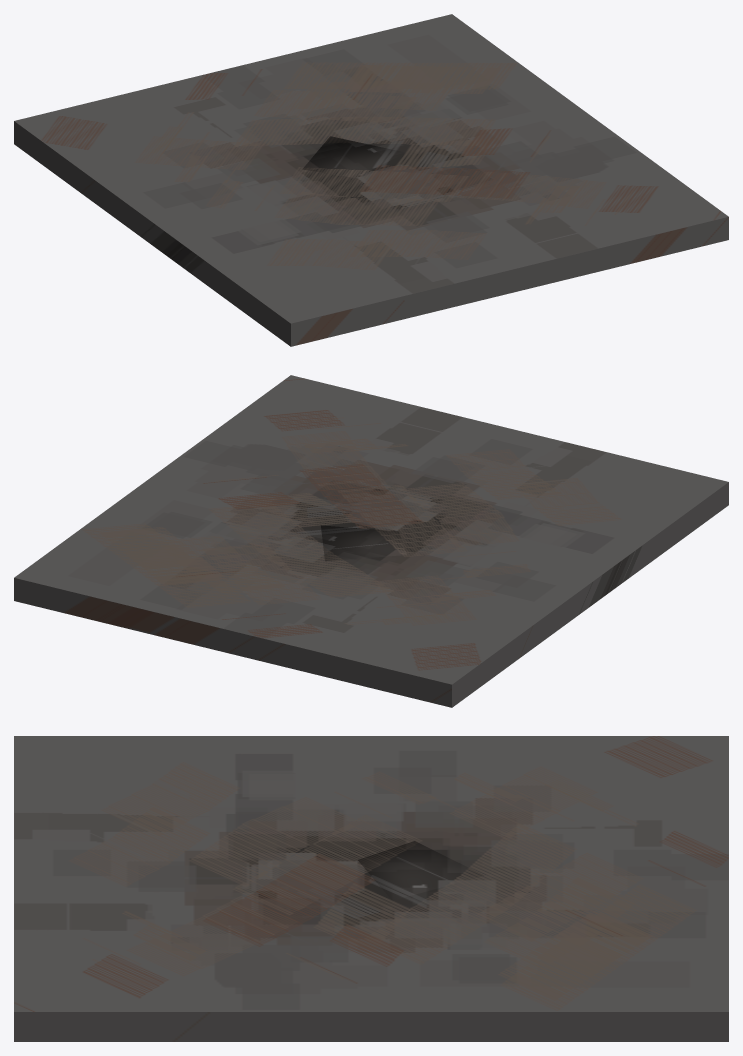
The model's file is BROKEN_BROKEN_FLOOR.fbx.
The picture shows the model from 3 angles, top to bottom: view 1: azimuth 30°, elevation 25°; view 2: azimuth 150°, elevation 25°; view 3: azimuth 270°, elevation 25°; orthographic projection. The views are drawn at different scales.
Visible parts, largest first — view 1: floor.004, floor.002, floor.010, floor.003, floor.006, floor.009, floor.005, floor.007, floor.008, floor.001, floor.011; view 2: floor.004, floor.002, floor.010, floor.009, floor.006, floor.007, floor.003, floor.005, floor.008, floor.001, floor.011; view 3: floor.004, floor.002, floor.010, floor.006, floor.007, floor.009, floor.005, floor.003, floor.008, floor.011, floor.001.
Part boxes in pixels (box(x1,y1,x2,y2)): floor.004: box(299, 152, 631, 302); floor.002: box(60, 139, 354, 294); floor.010: box(15, 52, 329, 169); floor.003: box(217, 269, 469, 346); floor.006: box(406, 88, 671, 174); floor.009: box(297, 30, 434, 145); floor.005: box(576, 171, 728, 270); floor.007: box(374, 44, 552, 152); floor.008: box(385, 14, 493, 64); floor.001: box(14, 121, 120, 178); floor.011: box(302, 136, 405, 178); floor.004: box(247, 412, 627, 531); floor.002: box(399, 503, 657, 672); floor.010: box(168, 555, 451, 707); floor.009: box(81, 540, 324, 638); floor.006: box(115, 417, 320, 525); floor.007: box(56, 504, 322, 558); floor.003: box(586, 447, 728, 556); floor.005: box(234, 375, 443, 432); floor.008: box(14, 547, 126, 618); floor.001: box(435, 636, 499, 707); floor.011: box(321, 525, 406, 561); floor.004: box(14, 770, 391, 995); floor.002: box(134, 736, 611, 859); floor.010: box(415, 736, 728, 914); floor.006: box(158, 901, 467, 1041); floor.007: box(392, 890, 640, 1041); floor.009: box(432, 875, 728, 971); floor.005: box(14, 915, 195, 1041); floor.003: box(14, 736, 204, 825); floor.008: box(605, 969, 728, 1041); floor.011: box(358, 841, 483, 900); floor.001: box(610, 736, 728, 774).
Bounding box in the file's own units: 494 × 25 × 541.
